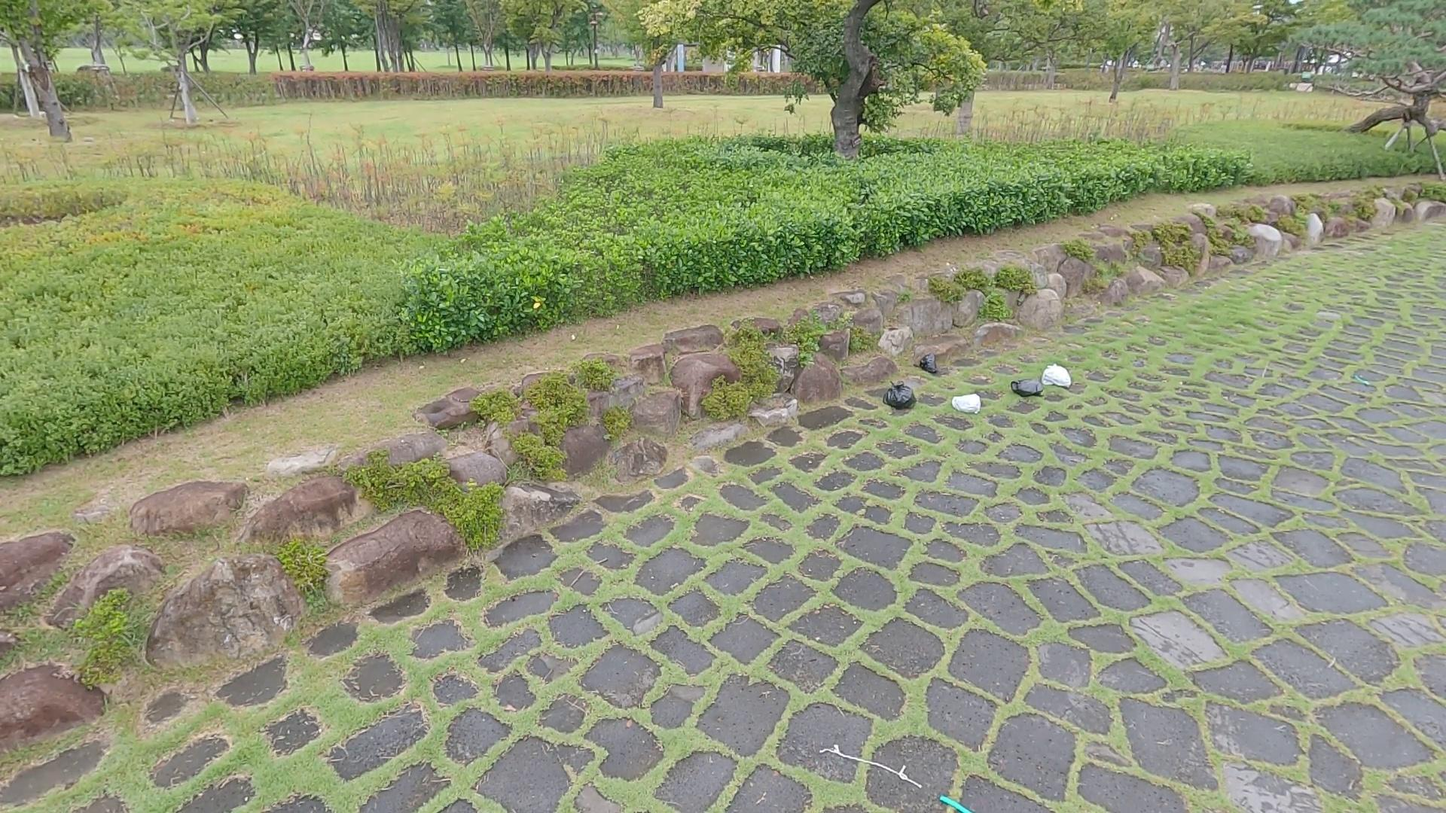trash: (880, 378, 920, 415), (1038, 361, 1074, 393), (1011, 374, 1049, 401), (949, 391, 983, 416), (917, 349, 939, 378)
